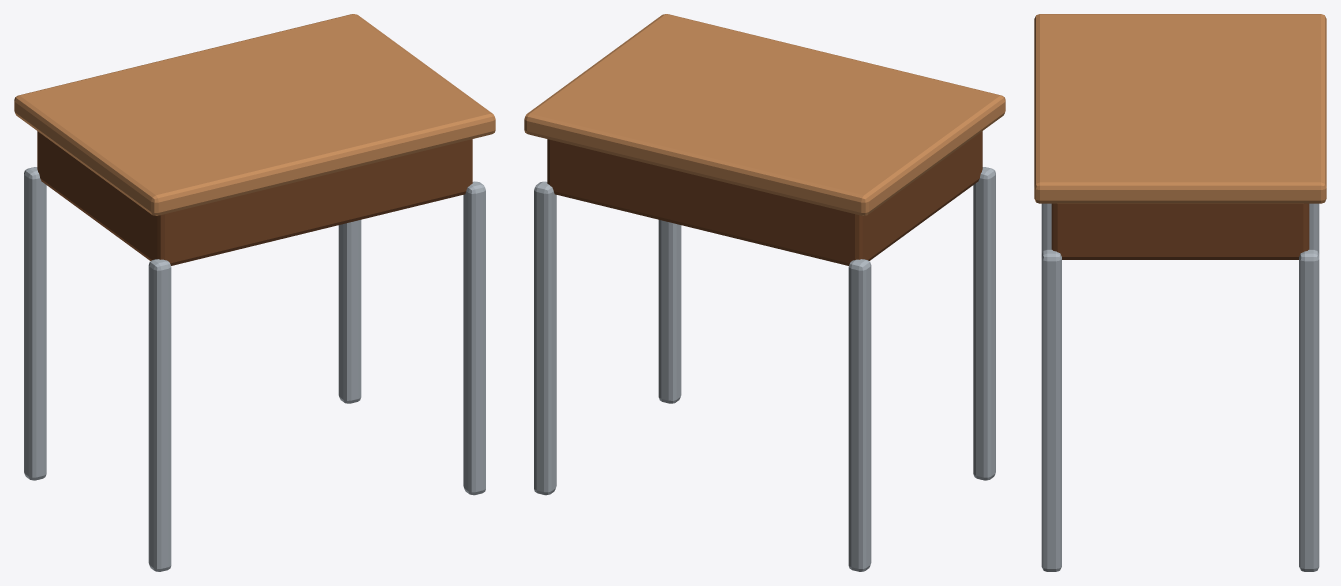
File: desk.glb
3 views of the same model, side by side, from view 1: azimuth 30°, elevation 25°; view 2: azimuth 150°, elevation 25°; view 3: azimuth 270°, elevation 25° (orthographic). The views are drawn at different scales.
Parts seen in each view (by area): view 1: desk; view 2: desk; view 3: desk.
Boxes of the visible parts, left/top/right/bottom form: desk: left=14, top=14, right=495, bottom=571; desk: left=524, top=14, right=1005, bottom=571; desk: left=1034, top=14, right=1326, bottom=571.
Size of the model in its own units: 0.7 by 0.74 by 0.5.
